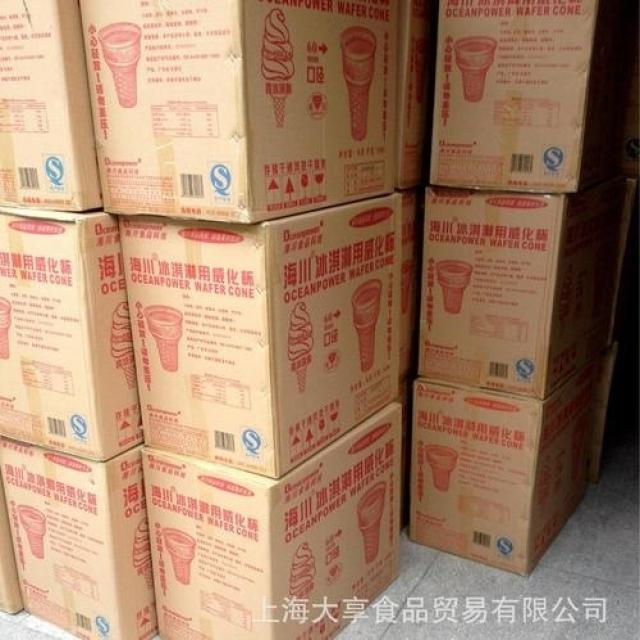box: (118, 190, 402, 479), (77, 1, 399, 226), (144, 401, 401, 639), (407, 345, 613, 578), (418, 174, 624, 398), (429, 1, 634, 194), (0, 205, 144, 459), (1, 435, 158, 639), (1, 0, 106, 213), (396, 1, 440, 190), (396, 183, 425, 382), (393, 373, 420, 529)
